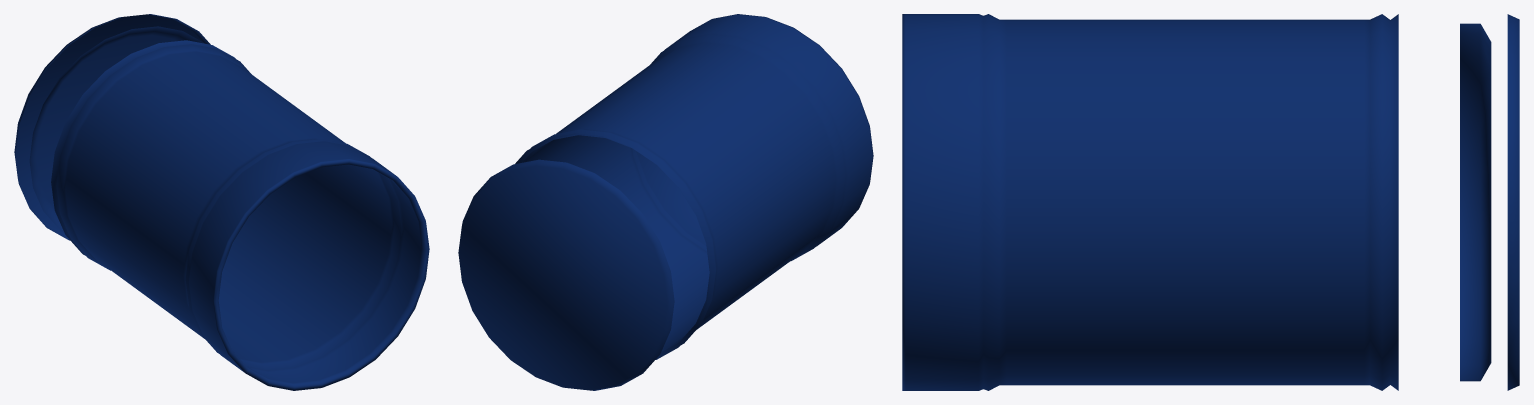
File: Can__1_Cylinder_0_GeomSubset_0.obj
3 views of the same model, side by side, from view 1: azimuth 30°, elevation 25°; view 2: azimuth 150°, elevation 25°; view 3: azimuth 270°, elevation 25° (orthographic). The views are drawn at different scales.
Visible parts, largest first — view 1: Can__1_Cylinder_0_GeomSubset_0; view 2: Can__1_Cylinder_0_GeomSubset_0; view 3: Can__1_Cylinder_0_GeomSubset_0.
Part boxes in pixels (box(x1,y1,x2,y2)): Can__1_Cylinder_0_GeomSubset_0: box(14, 14, 429, 390); Can__1_Cylinder_0_GeomSubset_0: box(458, 14, 873, 390); Can__1_Cylinder_0_GeomSubset_0: box(902, 14, 1519, 390).
Bounding box in the file's own units: 0.3858 × 0.3858 × 0.6296.
